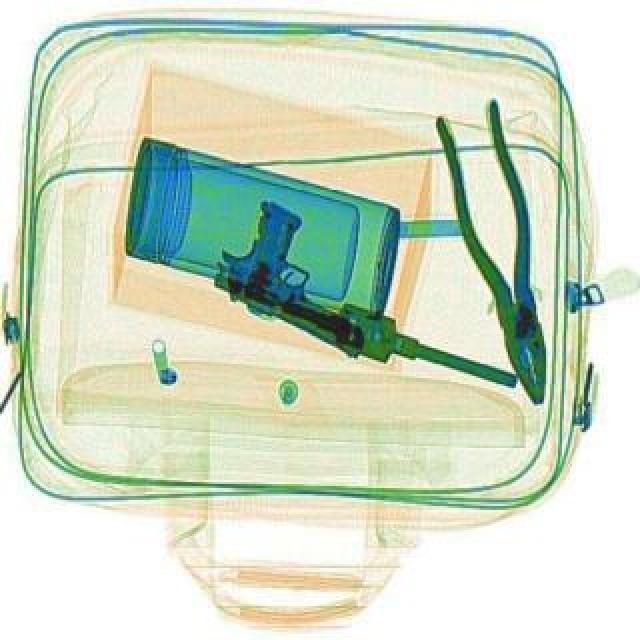gun: (200, 188, 412, 360)
wrench: (432, 98, 576, 412)
